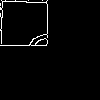Q: (25, 24, 67, 76)
